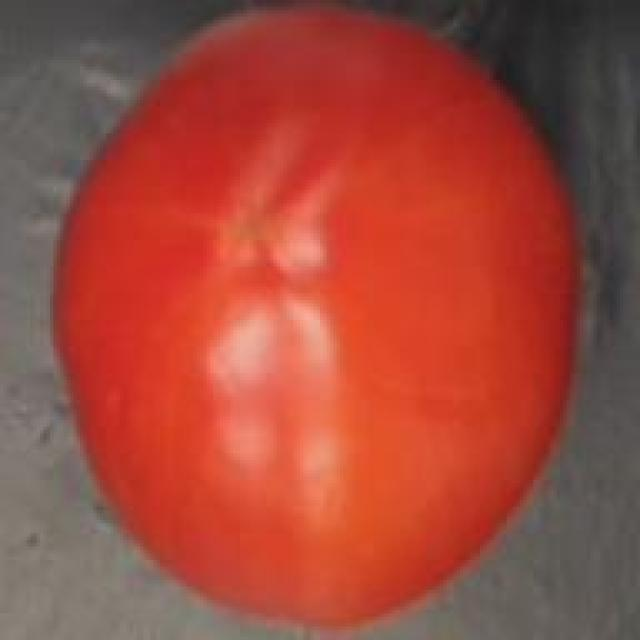ripe tomato: (44, 0, 594, 640)
